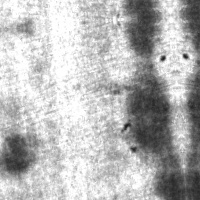patches: (122, 62, 175, 156), (121, 16, 165, 59), (0, 131, 38, 178), (148, 155, 186, 199)
